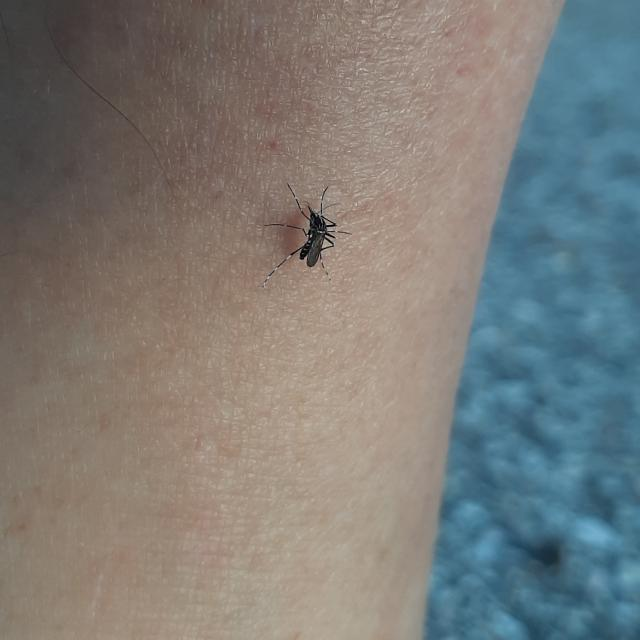albopictus: (253, 174, 347, 290)
